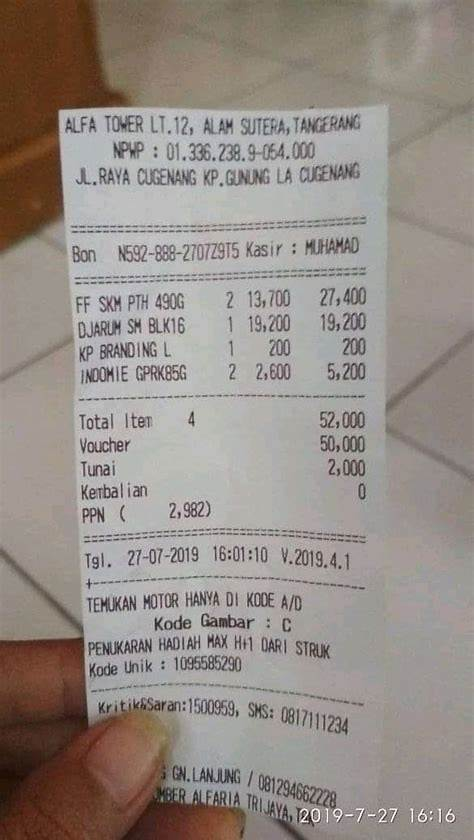total belanja: (73, 400, 368, 437)
